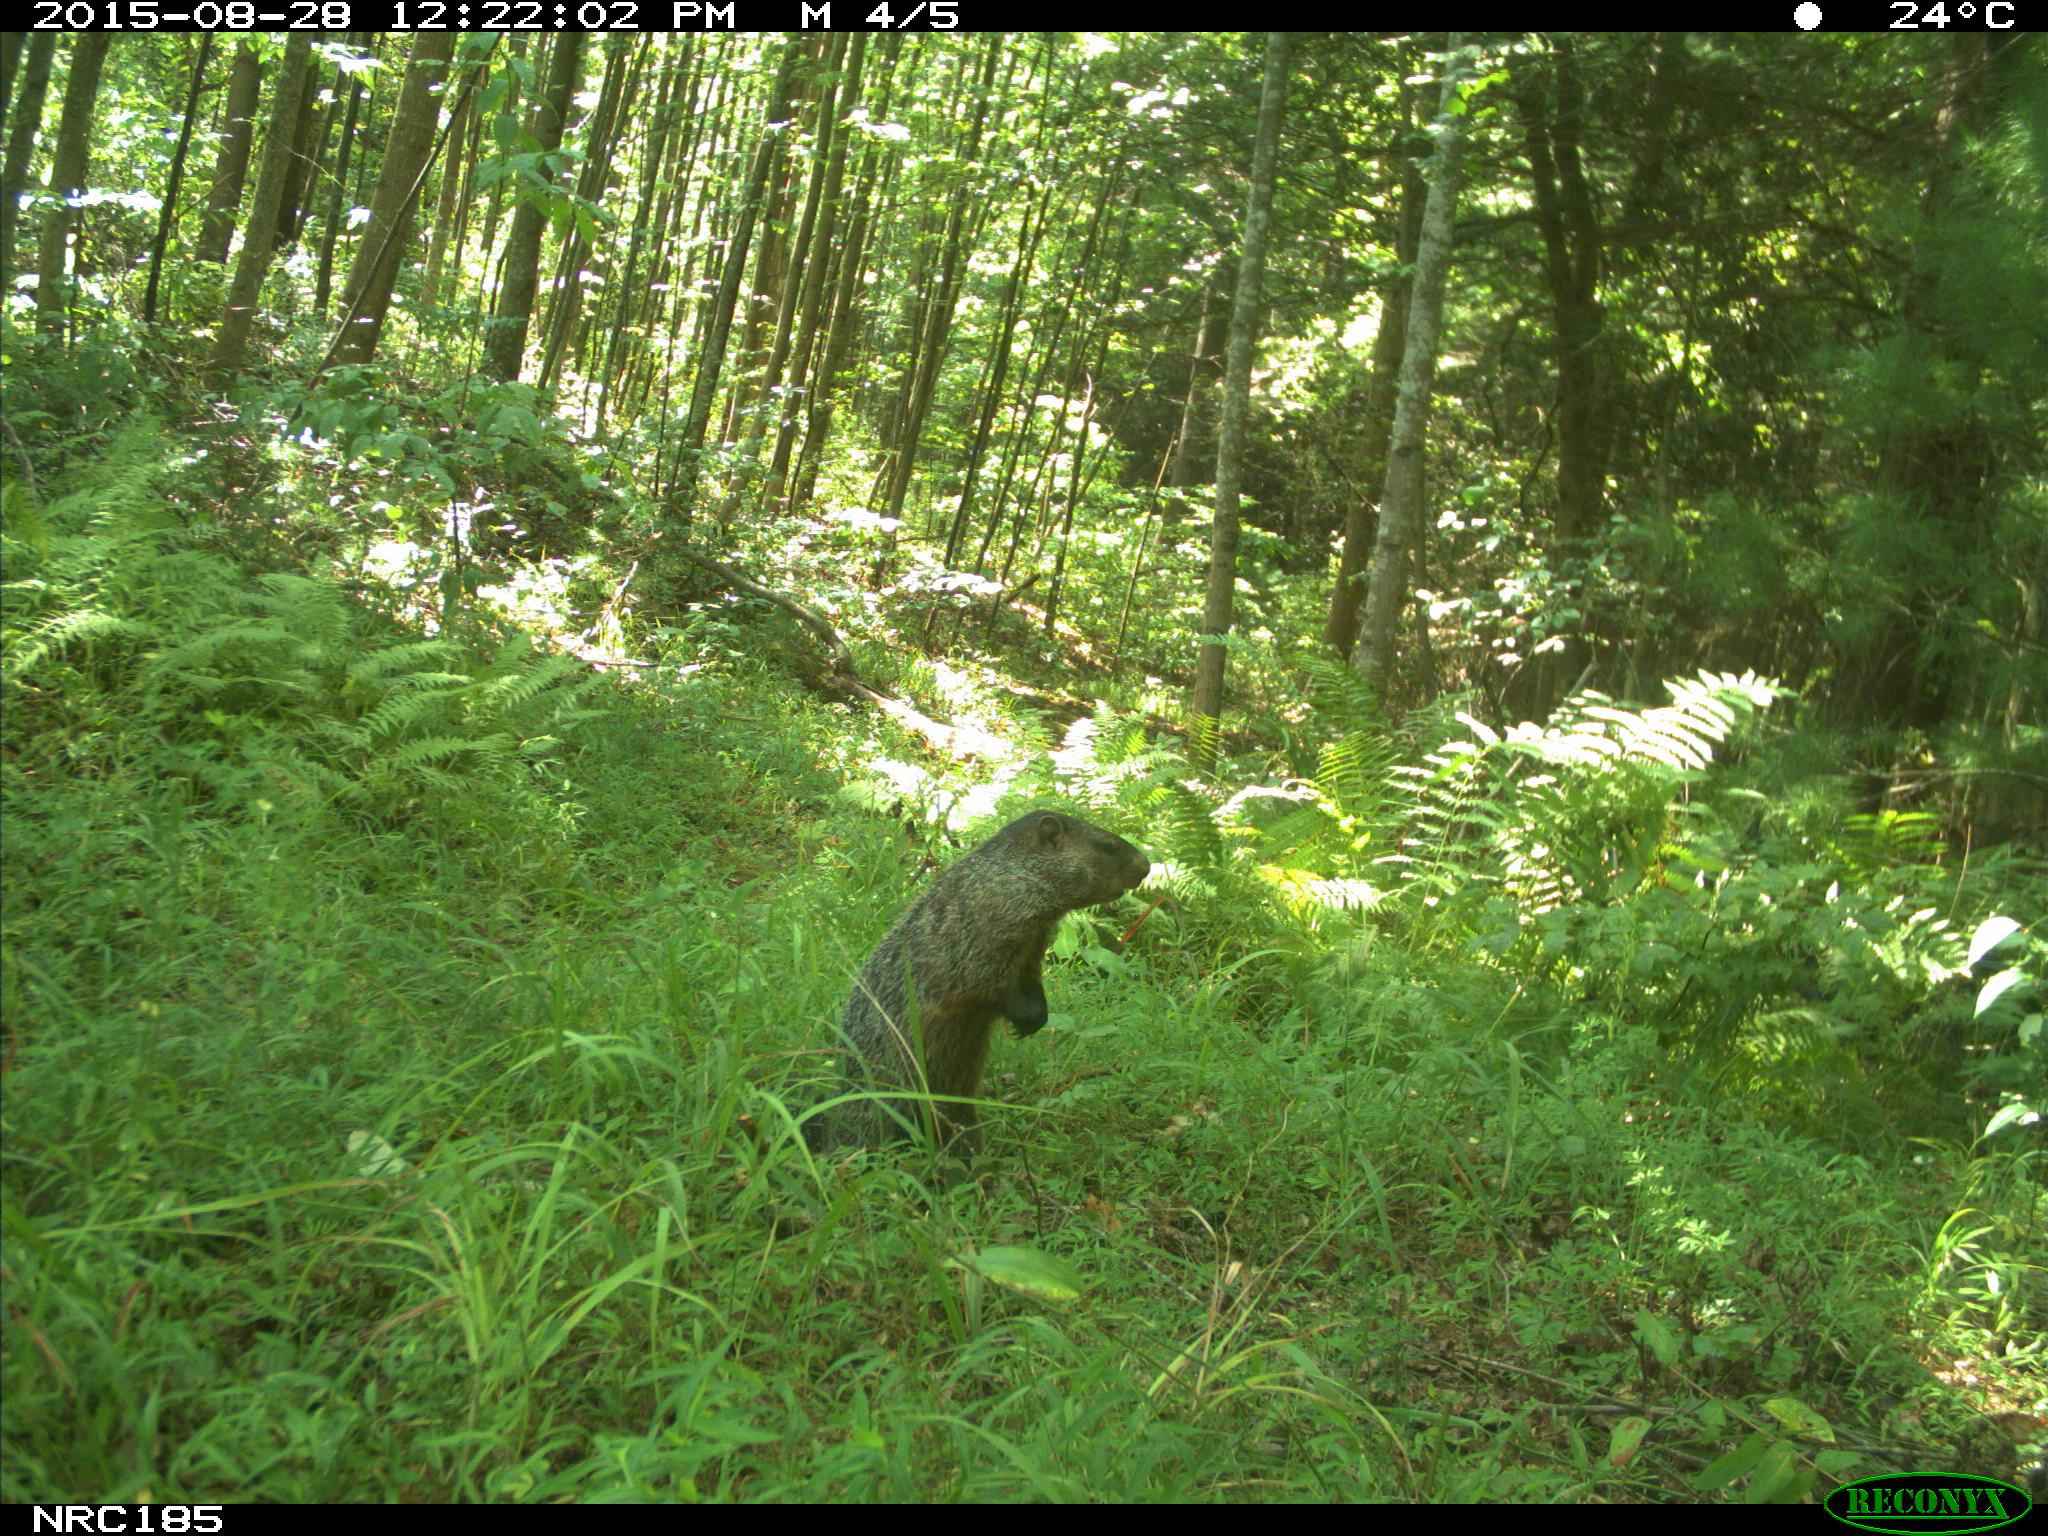Animal: (805, 808, 1153, 1168)
